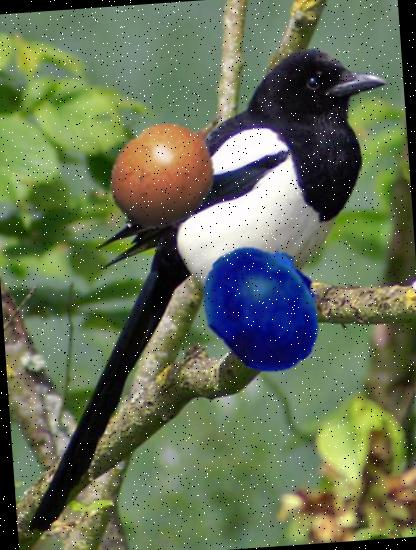Granadilla: (98, 93, 248, 243)
Huckleberry: (193, 236, 334, 376)
